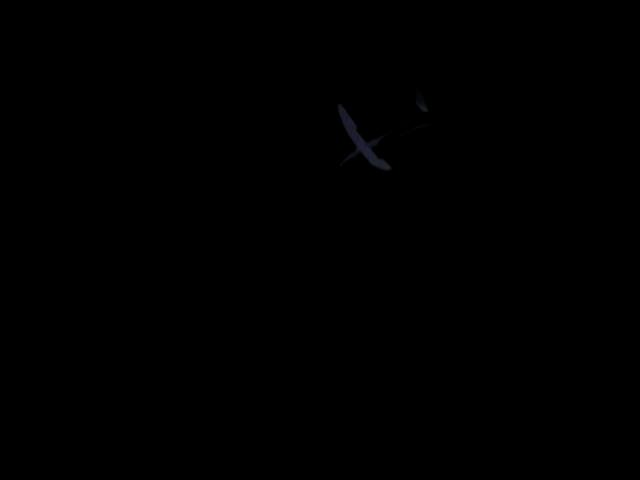flying wing: (322, 73, 447, 180)
